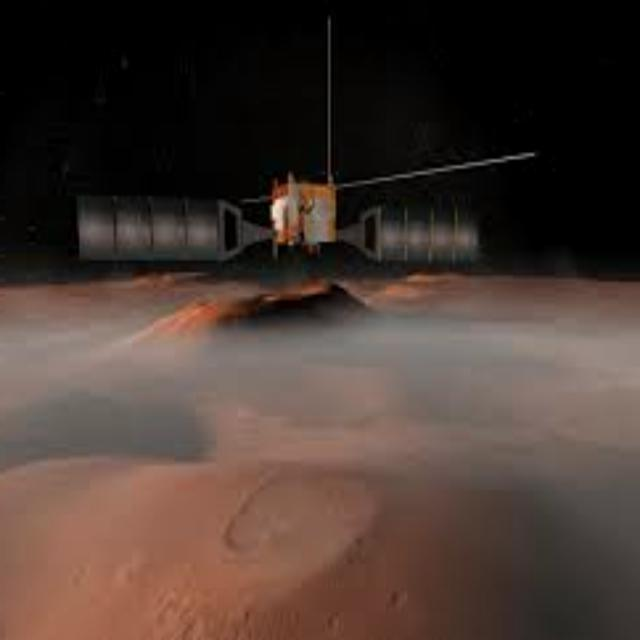medium_debris: (74, 171, 486, 286)
